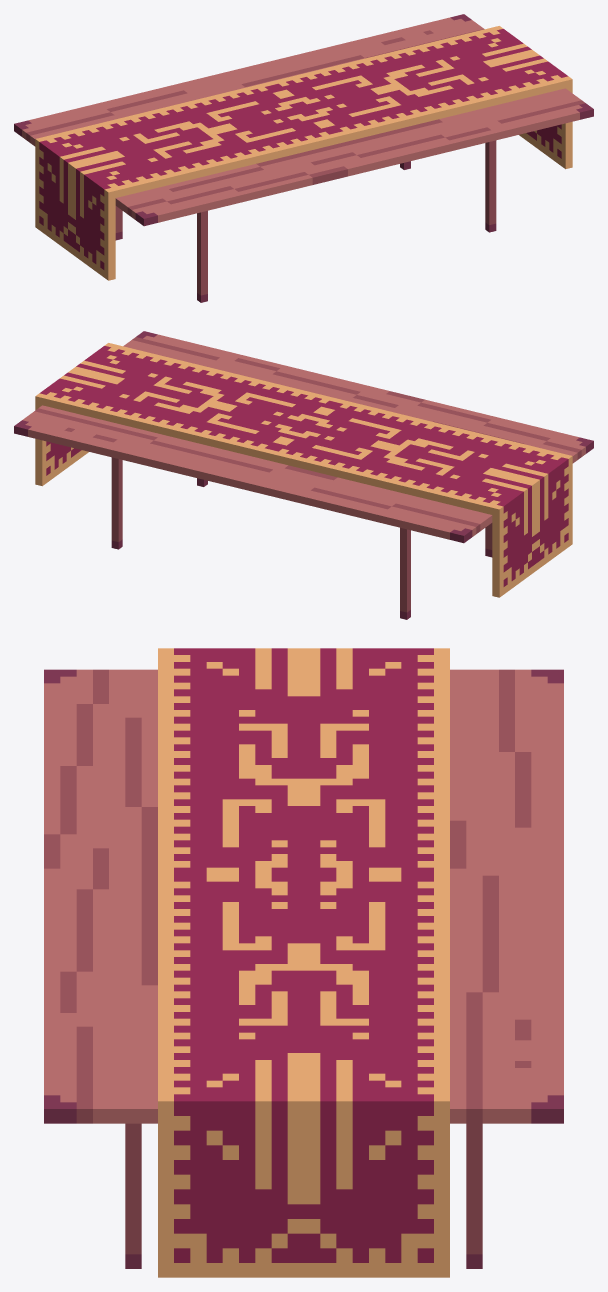
Rendered from table_fancy_2x3.obj.
3 renders of one model, top to bottom at view 1: azimuth 30°, elevation 25°; view 2: azimuth 150°, elevation 25°; view 3: azimuth 270°, elevation 25°, orthographic. The views are drawn at different scales.
Parts seen in each view (by area): view 1: table_fancy_2x3; view 2: table_fancy_2x3; view 3: table_fancy_2x3.
Boxes of the visible parts, x1,y1,x2,y2 form: table_fancy_2x3: [14, 14, 593, 302]; table_fancy_2x3: [14, 331, 593, 619]; table_fancy_2x3: [44, 648, 563, 1277].
Bounding box in the file's own units: 17.92 × 4.61 × 8.69.
